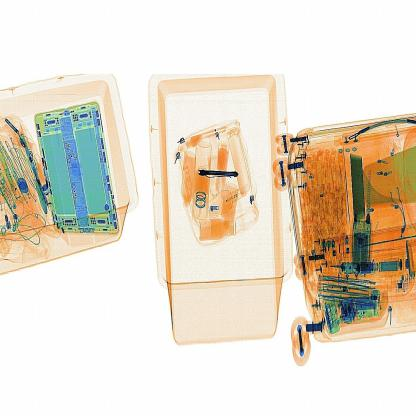knife: (196, 163, 244, 183)
